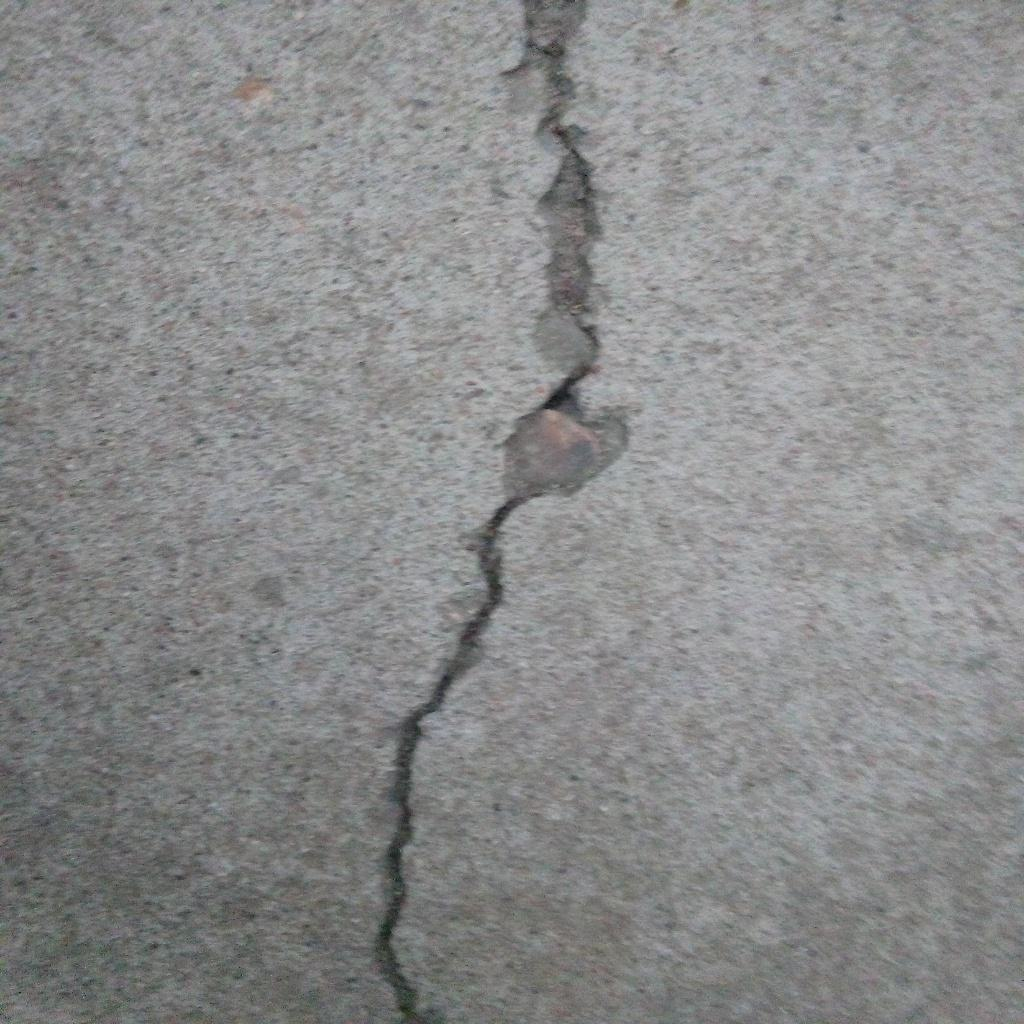Crack: (373, 1, 634, 1024)
